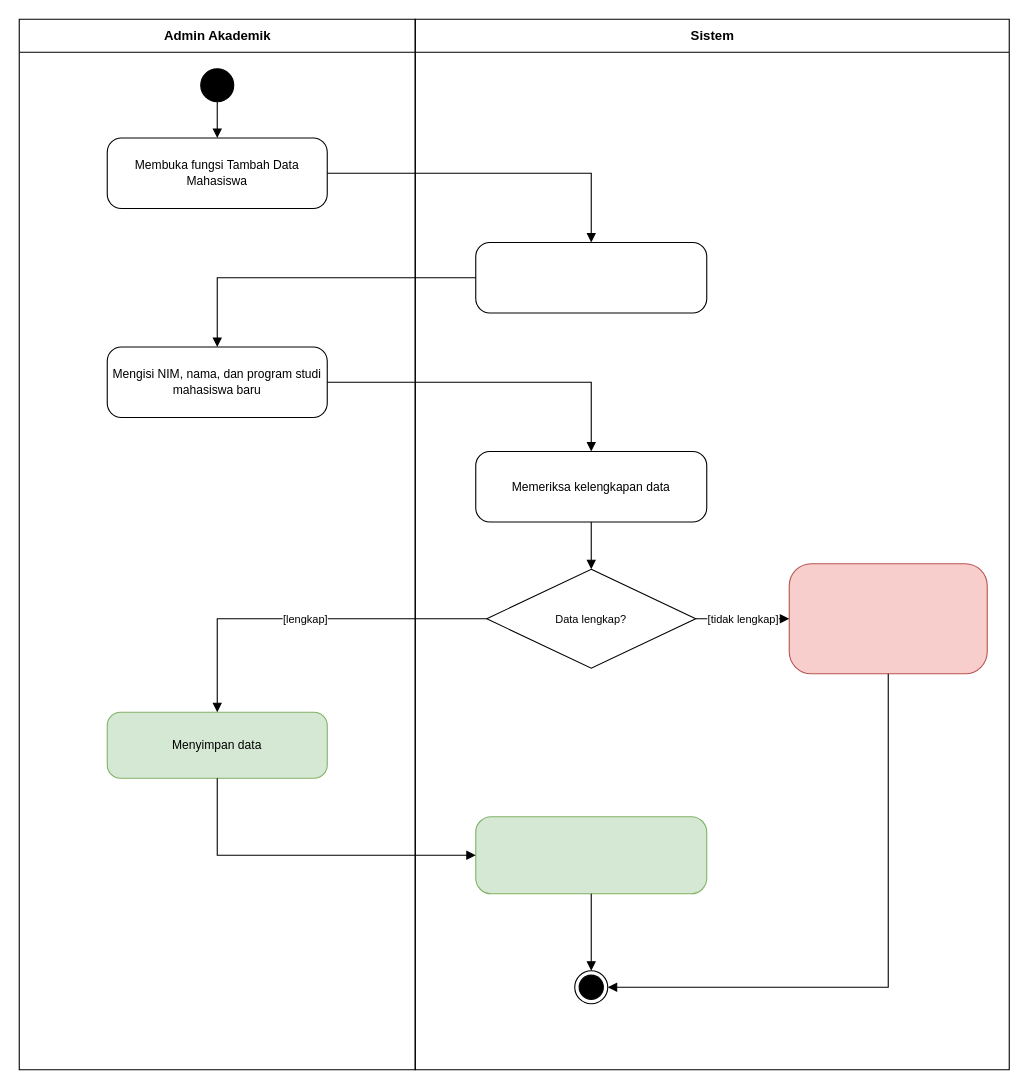
This 1029x1089 diagram has some shape labels left out. The shapes that lost their labels are listed below. From the top down, each one's centre as x and y in pixels, then its label:
[591,277]: Menampilkan formulir data mahasiswa baru
[887,618]: Menolak penyimpanan dan meminta petugas melengkapi data
[591,855]: Menyimpan data mahasiswa baru dan menampilkan konfirmasi
